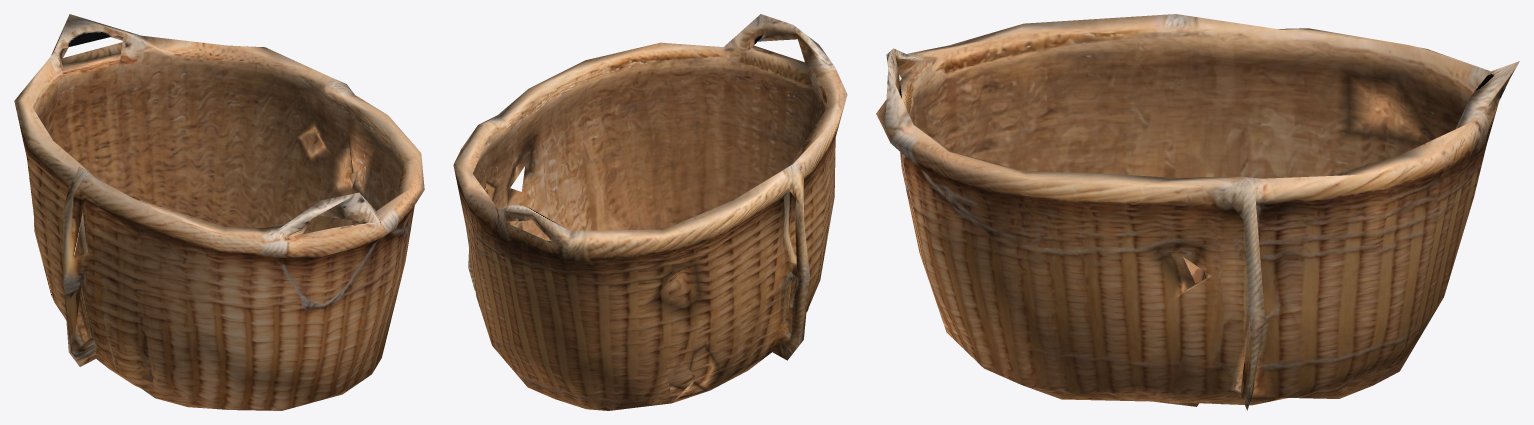
The picture shows the model from 3 angles, left to right: view 1: azimuth 30°, elevation 25°; view 2: azimuth 150°, elevation 25°; view 3: azimuth 270°, elevation 25°; orthographic projection. The views are drawn at different scales.
Parts seen in each view (by area): view 1: Mesh1; view 2: Mesh1; view 3: Mesh1.
Part boxes in pixels (<box>): Mesh1: <box>14,14,424,410</box>; Mesh1: <box>453,14,847,410</box>; Mesh1: <box>876,14,1519,410</box>.
Size of the model in its own units: 141 by 104 by 201.
Materials: 1 (1 with a texture image).
